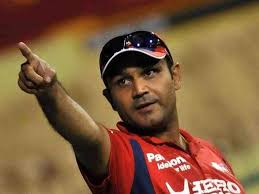hand: (11, 35, 68, 100)
